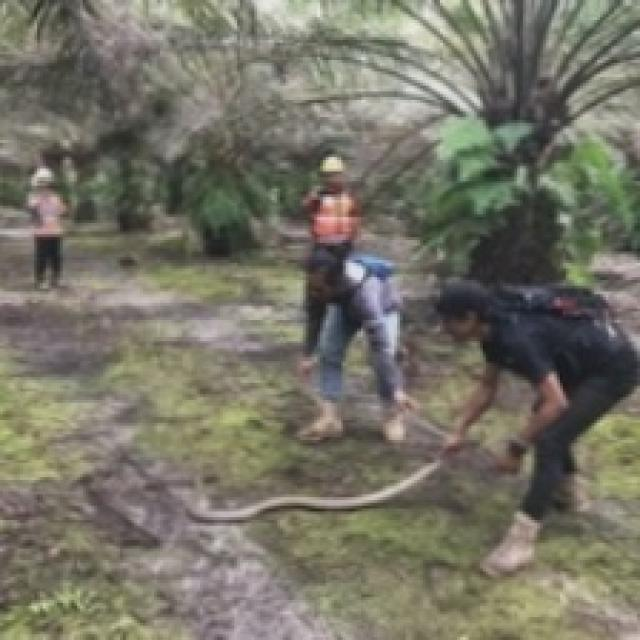king cobra: (188, 459, 442, 522)
